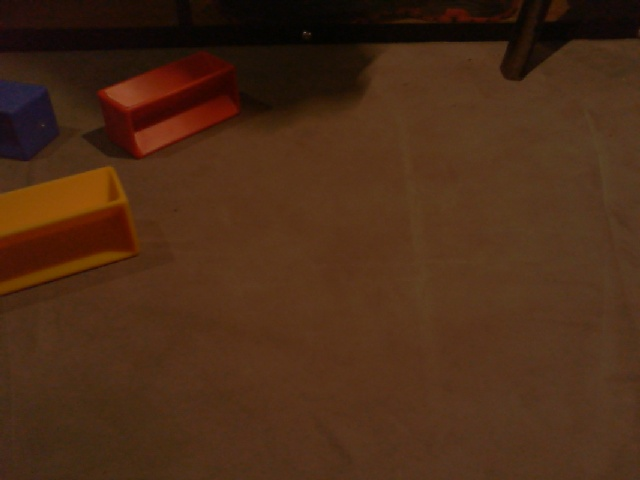BlueSample: (1, 76, 61, 162)
RedSample: (97, 50, 243, 159)
YellowSample: (1, 163, 140, 294)
